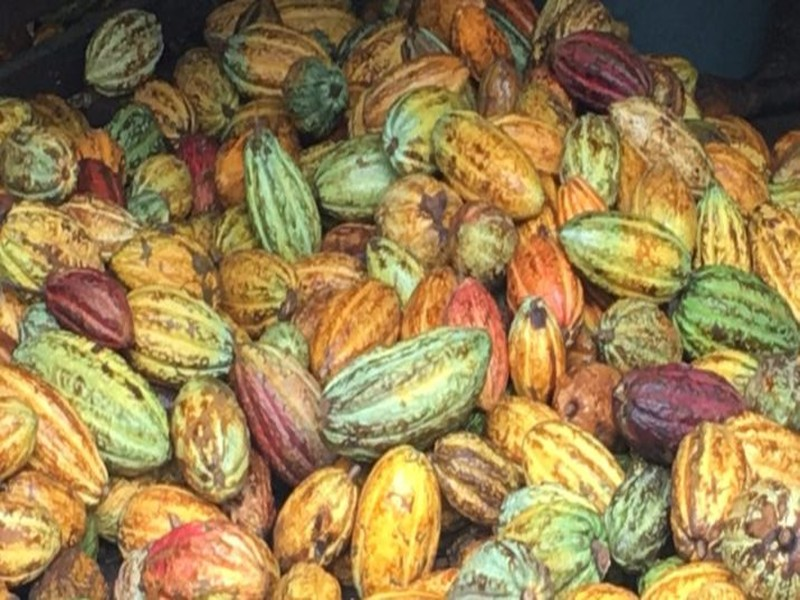Cacaopod: (317, 328, 495, 454)
